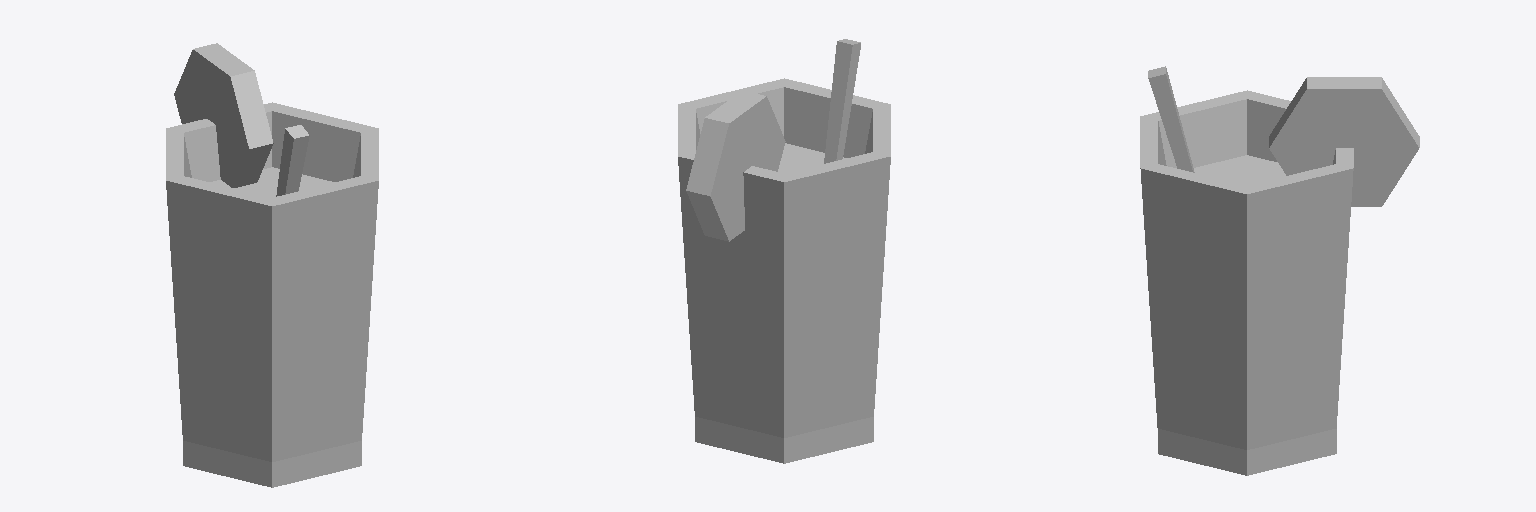
File: soda-glass.obj
3 views of the same model, side by side, from view 1: azimuth 30°, elevation 25°; view 2: azimuth 150°, elevation 25°; view 3: azimuth 270°, elevation 25° (orthographic).
Parts seen in each view (by area): view 1: soda-glass, lemon, straw; view 2: soda-glass, lemon, straw; view 3: soda-glass, lemon, straw.
Boxes of the visible parts, x1,y1,x2,y2 form: soda-glass: [166, 102, 378, 487]; lemon: [174, 43, 273, 187]; straw: [276, 125, 309, 196]; soda-glass: [678, 78, 890, 463]; lemon: [686, 90, 785, 241]; straw: [824, 39, 860, 163]; soda-glass: [1140, 90, 1353, 475]; lemon: [1269, 77, 1419, 206]; straw: [1148, 66, 1194, 172].
Bounding box in the file's own units: 0.2618 × 0.4134 × 0.2967.